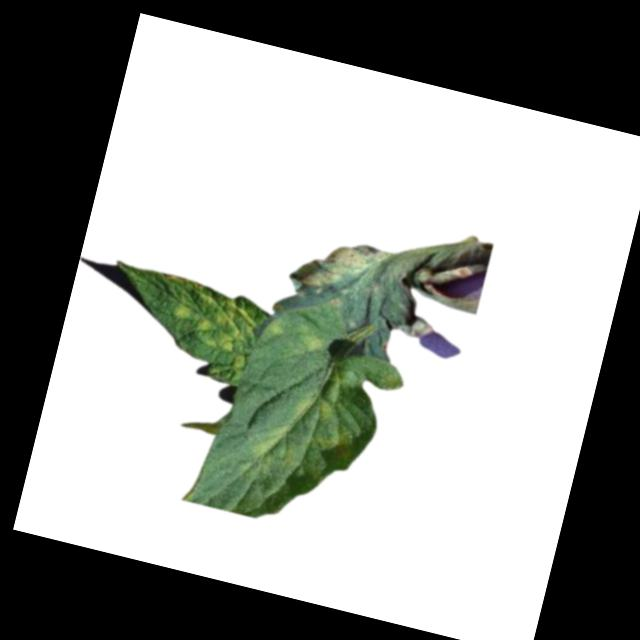Leaf_Mold: (247, 381, 354, 488), (163, 277, 263, 372), (291, 230, 391, 309), (294, 328, 331, 362)
